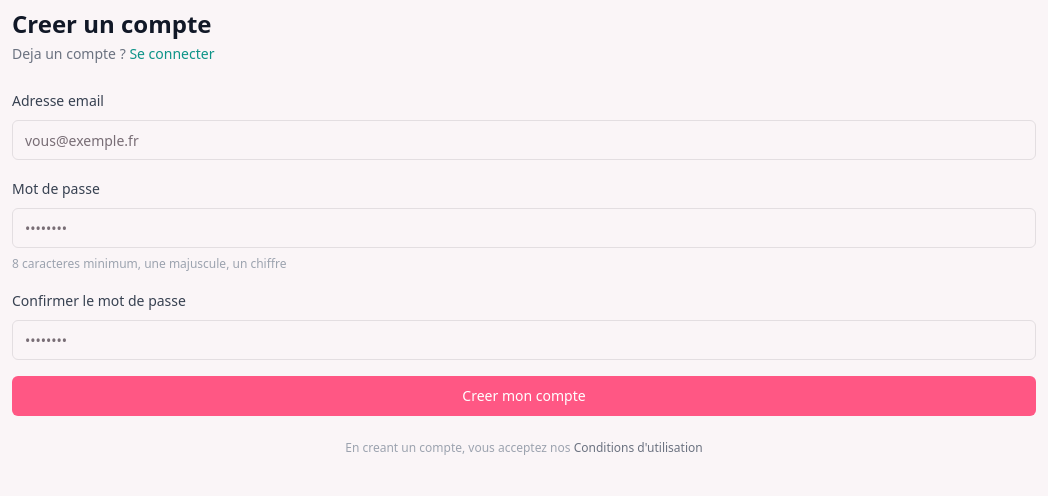
Scenario: RegisterPage › shows validation error for weak password (no uppercase)
The image size is (1048, 496).
Type "test@example.com" into the field labelled "Adresse email" at (524, 140), box x1=12 y1=120 x2=1036 y2=160
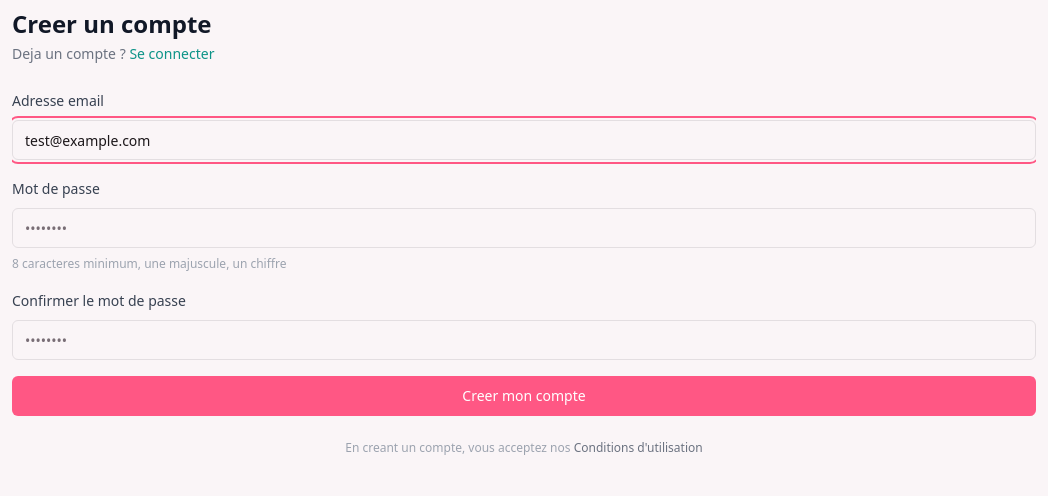
Type "password123" into the password field labelled "Mot de passe" at (524, 228), box x1=12 y1=208 x2=1036 y2=248
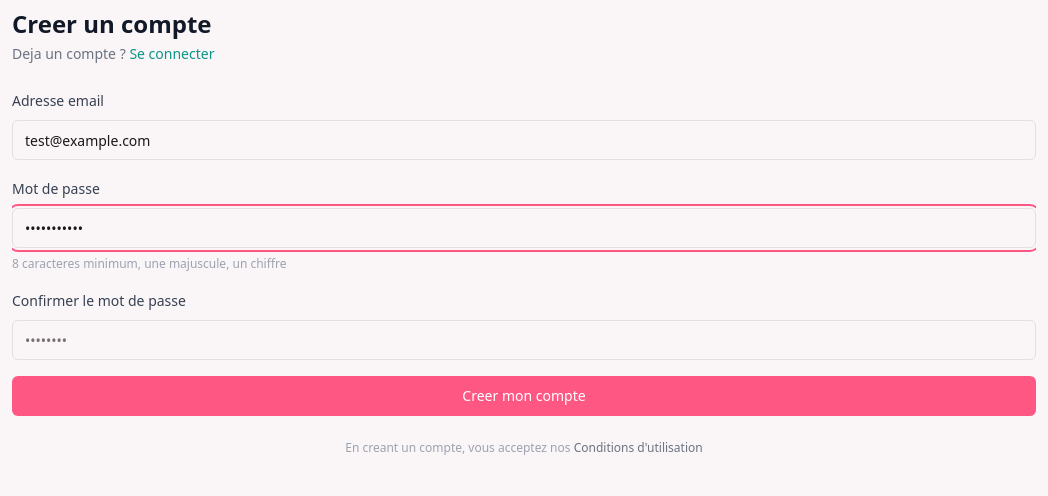
Type "password123" into the password field labelled "Confirmer le mot de passe" at (524, 340), box x1=12 y1=320 x2=1036 y2=360
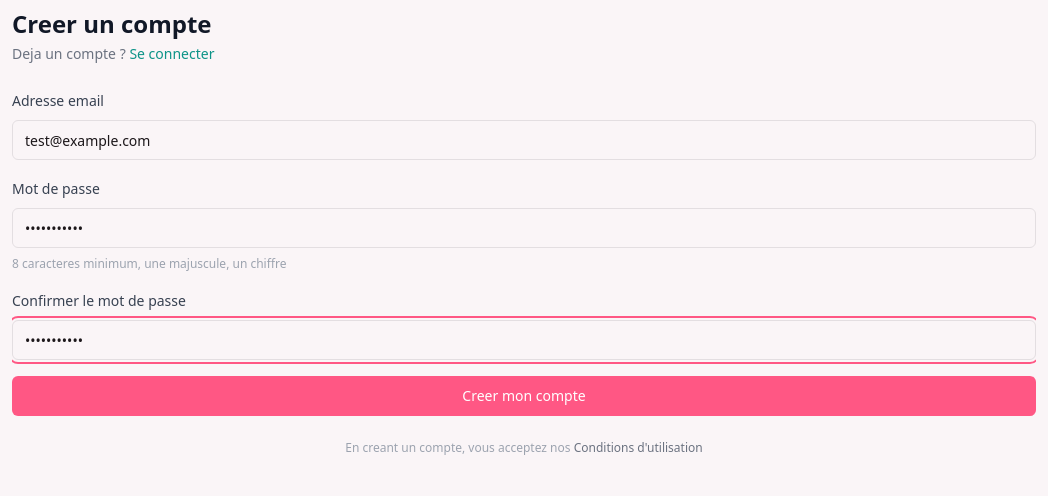
Click the button "Creer mon compte" at (524, 396), box x1=12 y1=376 x2=1036 y2=416
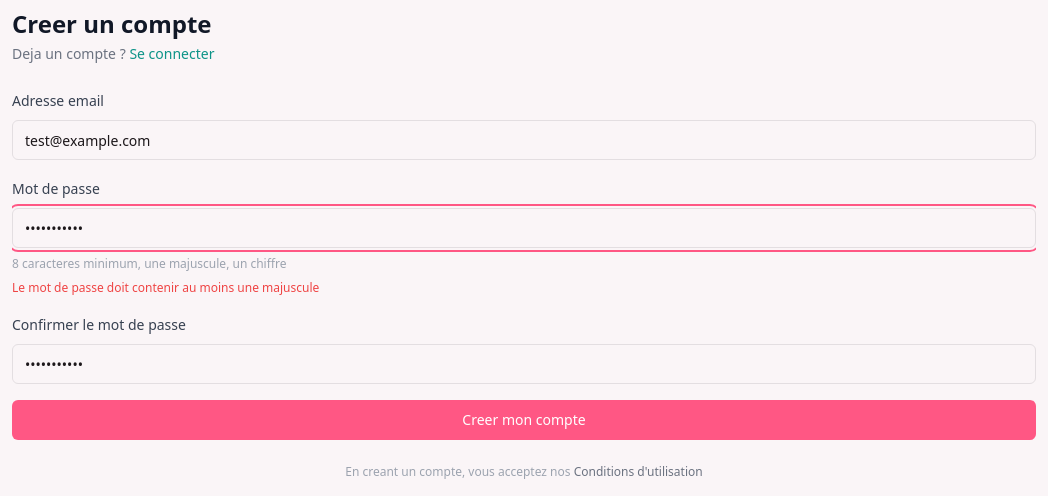
Check: the text "Le mot de passe doit contenir au moins une majuscule" is shown, box x1=12 y1=279 x2=319 y2=296
